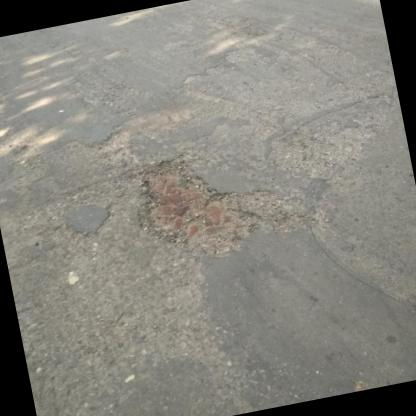pothole: (127, 140, 261, 268)
